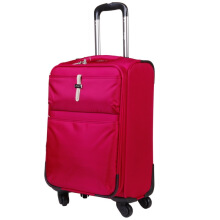luggage: (43, 2, 156, 218)
